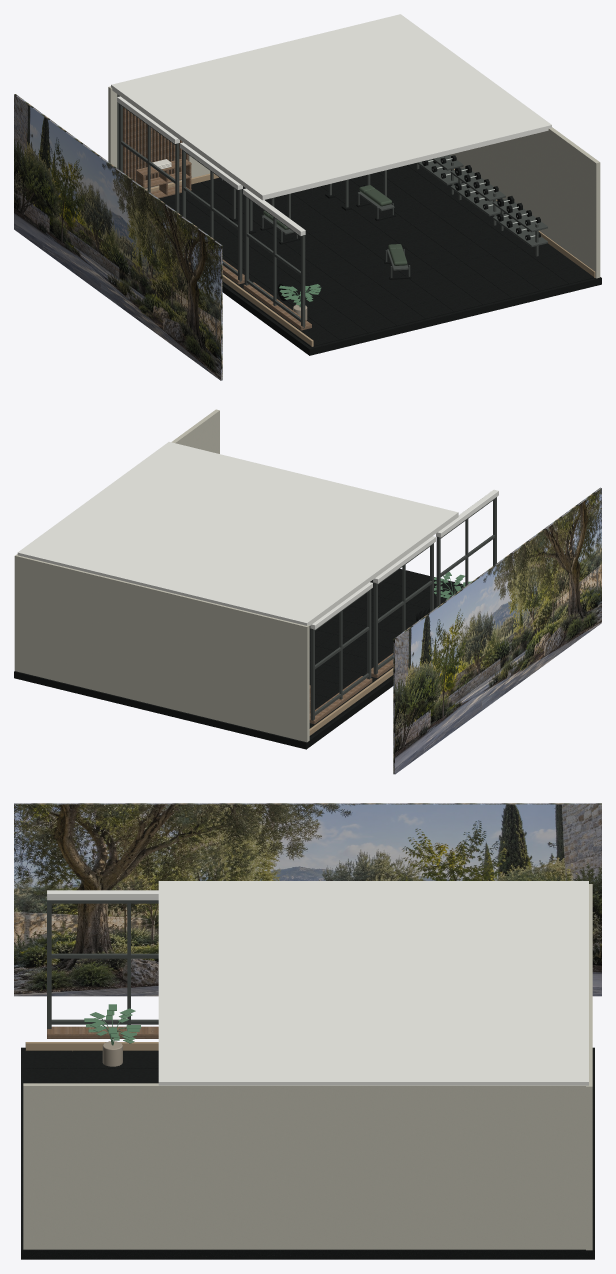
File: strength-room.glb
3 views of the same model, one above another, from view 1: azimuth 30°, elevation 25°; view 2: azimuth 150°, elevation 25°; view 3: azimuth 270°, elevation 25° (orthographic). The views are drawn at different scales.
Visible parts, largest first — view 1: Flat plaster ceiling, Courtyard panorama, Right plaster wall, Strength studio | continuous structural floor, Rear plaster wall, Acoustic panel backing, Oak floor skirting, Window 1 sill, Window 1 top lintel, Dumbbell rack angled shelf.001, Dumbbell rack angled shelf.003, Dumbbell rack angled shelf (+42 smaller); view 2: Flat plaster ceiling, Rear plaster wall, Courtyard panorama, Strength studio | continuous structural floor, Right plaster wall, Oak floor skirting, Window 3 sill, Window 1 top lintel, Window 2 top lintel, Window 3 top lintel; view 3: Right plaster wall, Flat plaster ceiling, Courtyard panorama, Strength studio | continuous structural floor, Rear plaster wall, Window 1 top lintel, Window 1 sill, Oak floor skirting, Interlocking rubber tile 00-00, Interlocking rubber tile 01-00, Interlocking rubber tile 01-01, Interlocking rubber tile 00-02 (+4 smaller).
Part boxes in pixels (box(x1,y1,x2,y2)): Flat plaster ceiling: box(111, 14, 551, 200); Courtyard panorama: box(14, 94, 222, 380); Right plaster wall: box(450, 127, 600, 278); Strength studio | continuous structural floor: box(222, 277, 601, 355); Rear plaster wall: box(108, 86, 210, 188); Acoustic panel backing: box(117, 94, 189, 181); Oak floor skirting: box(222, 274, 313, 346); Window 1 sill: box(243, 282, 311, 330); Window 1 top lintel: box(243, 188, 305, 235); Dumbbell rack angled shelf.001: box(492, 198, 547, 232); Dumbbell rack angled shelf.003: box(450, 168, 505, 201); Dumbbell rack angled shelf: box(492, 214, 547, 247); Flat plaster ceiling: box(17, 442, 458, 625); Rear plaster wall: box(14, 554, 309, 742); Courtyard panorama: box(393, 487, 601, 774); Strength studio | continuous structural floor: box(14, 569, 462, 749); Right plaster wall: box(15, 409, 219, 671); Oak floor skirting: box(309, 668, 393, 735); Window 3 sill: box(309, 676, 372, 724); Window 1 top lintel: box(436, 489, 498, 537); Window 2 top lintel: box(373, 536, 435, 583); Window 3 top lintel: box(310, 582, 372, 629); Right plaster wall: box(23, 1083, 585, 1249); Flat plaster ceiling: box(158, 881, 588, 1085); Courtyard panorama: box(14, 803, 601, 996); Strength studio | continuous structural floor: box(21, 1047, 594, 1259); Rear plaster wall: box(586, 884, 592, 1250); Window 1 top lintel: box(47, 890, 158, 900); Window 1 sill: box(47, 1026, 158, 1038); Oak floor skirting: box(25, 1042, 158, 1051); Interlocking rubber tile 00-00: box(26, 1050, 72, 1068); Interlocking rubber tile 01-00: box(26, 1068, 72, 1083); Interlocking rubber tile 01-01: box(73, 1068, 119, 1083); Interlocking rubber tile 00-02: box(120, 1050, 158, 1068).
Bounding box in the file's own units: 13.38 × 4.5 × 12.5.
16 materials, 5 textured.
